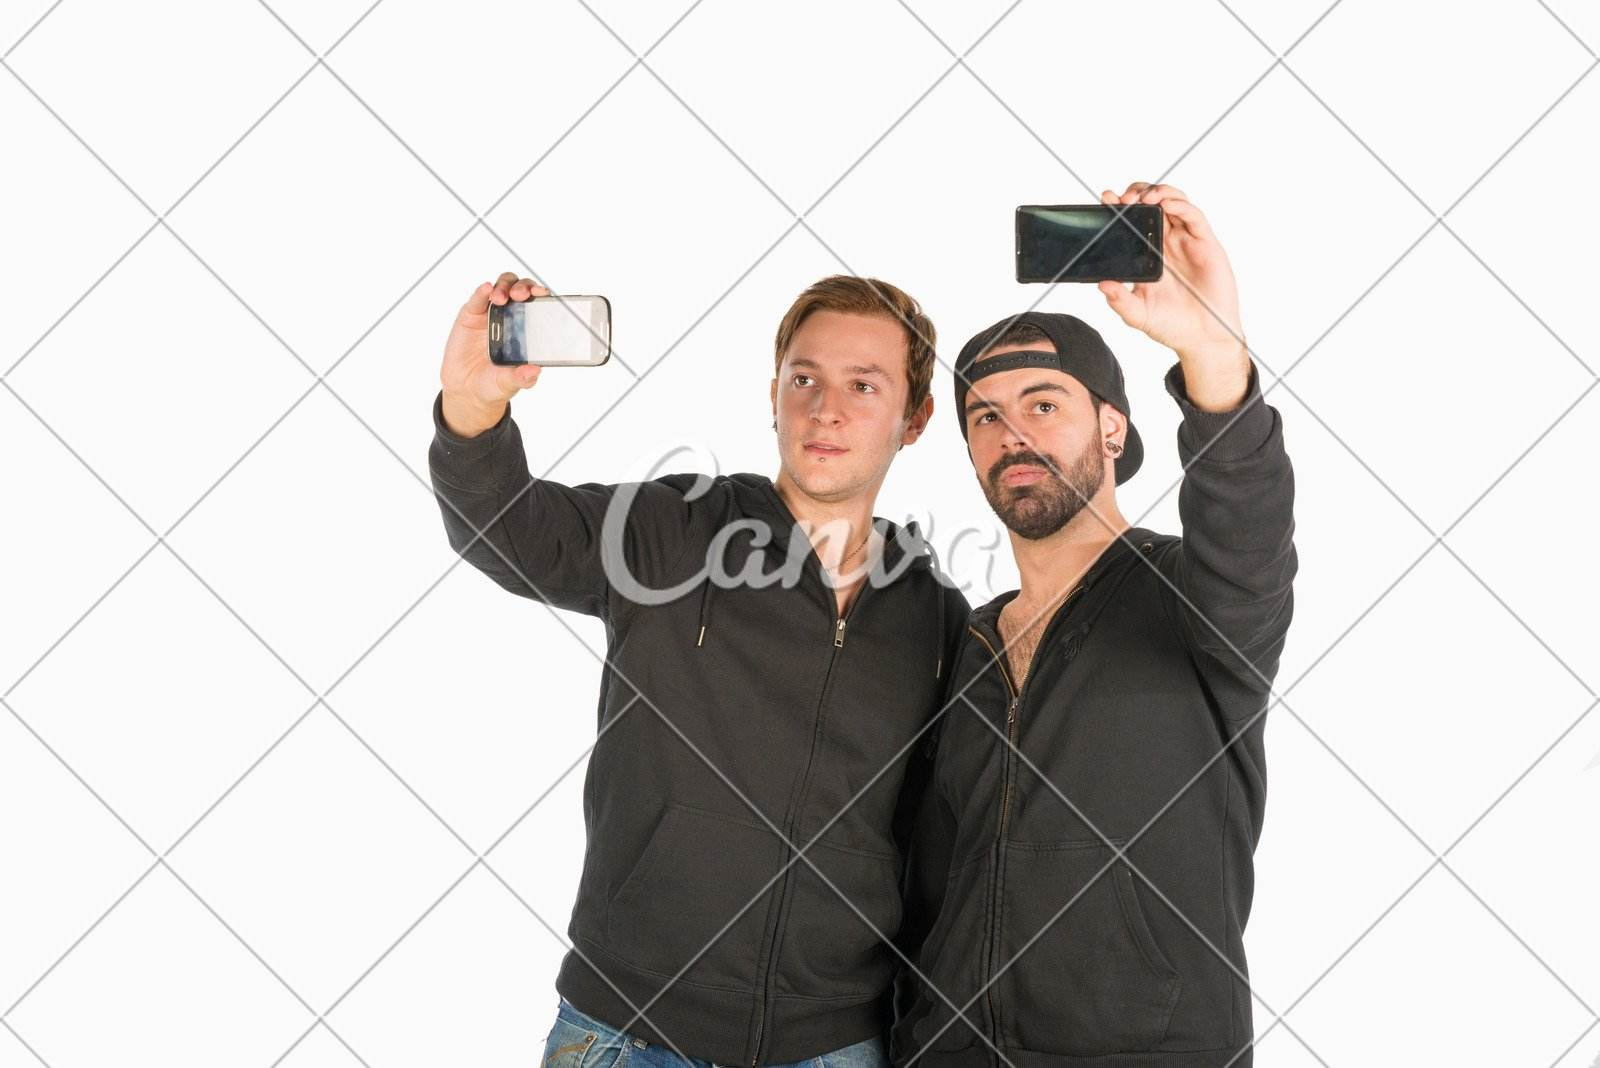taking photos: (1010, 175, 1249, 364), (440, 267, 618, 421)
